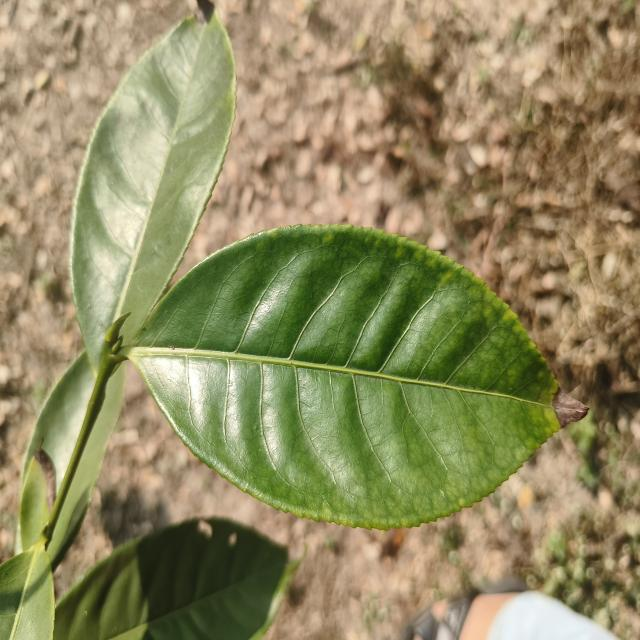Leaf: (125, 225, 588, 529), (70, 0, 237, 370), (53, 518, 297, 640), (49, 368, 126, 568), (20, 351, 95, 519), (0, 538, 55, 640)
